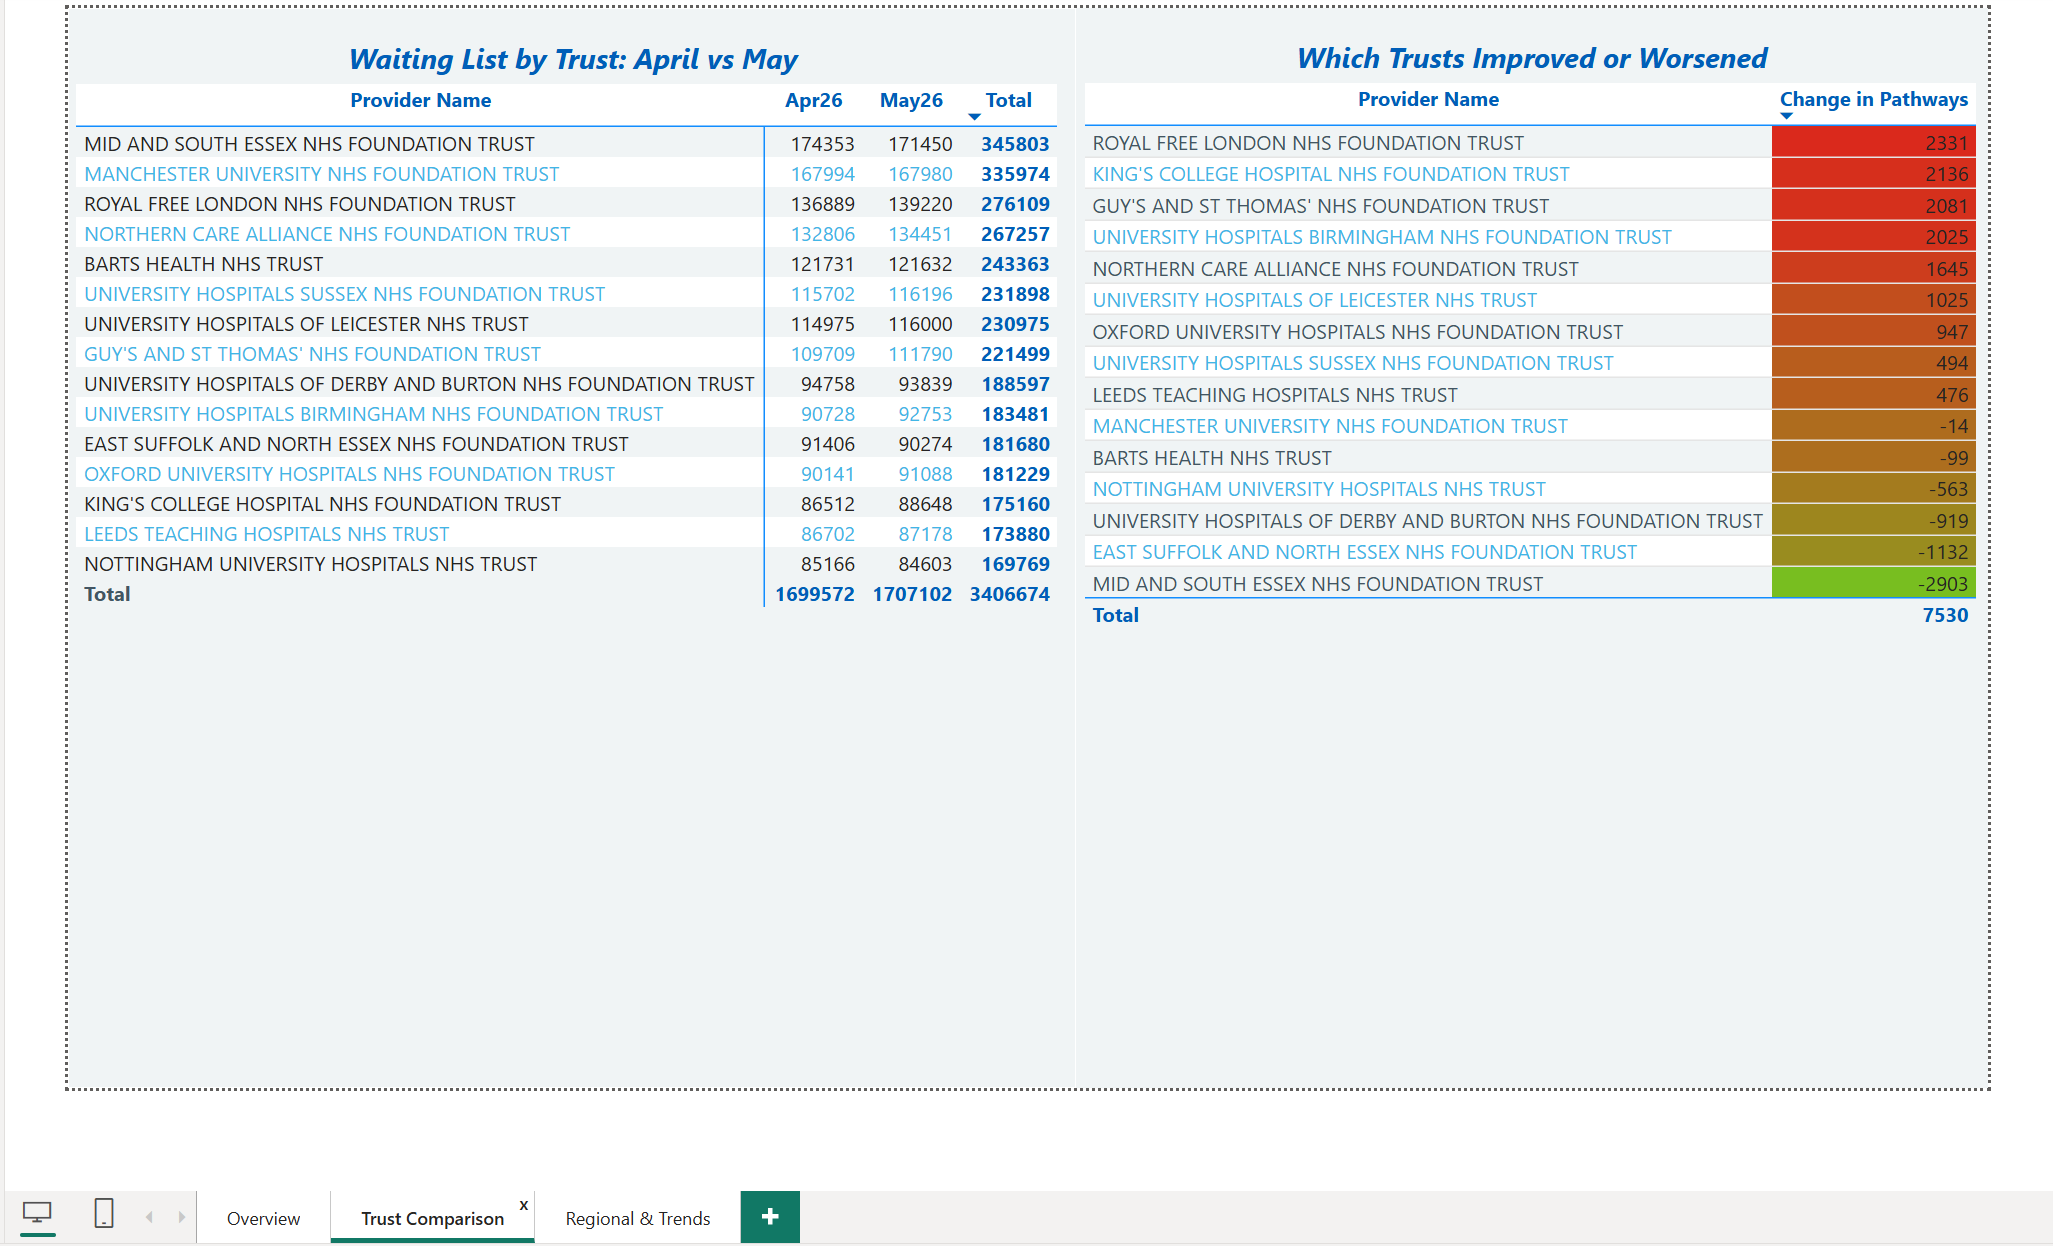

Layout of this report page (visuals, bound fields, positions):
{"tool":"powerbi","page":{"name":"Trust Comparison","canvas":[1280,720],"ordinal":1},"visuals":[{"type":"pivotTable","fields":{"Rows":["Incomplete_Provider_Combined.Provider Name"],"Columns":["Incomplete_Provider_Combined.Month"],"Values":["Incomplete_Provider_Combined.Total Incomplete Pathways"]},"box":[0,454.1,476.3,265.9],"z":0},{"type":"tableEx","fields":{"Values":["Incomplete_Provider_Combined.Provider Name","Incomplete_Provider_Combined.Change in Pathways"]},"box":[0,201.3,432,255.3],"z":1}]}

Visuals, with their boxes on the page's 1280x720 design canvas (x1, y1, x2, y2). These are canvas units, not pixel positions in the 2053x1246 screenshot, which may show the page scaled, cropped or inside an application window:
pivotTable - Incomplete_Provider_Combined.Provider Name x Incomplete_Provider_Combined.Month: bbox=(0, 454, 476, 720)
tableEx - Incomplete_Provider_Combined.Provider Name x Incomplete_Provider_Combined.Change in Pathways: bbox=(0, 201, 432, 457)
